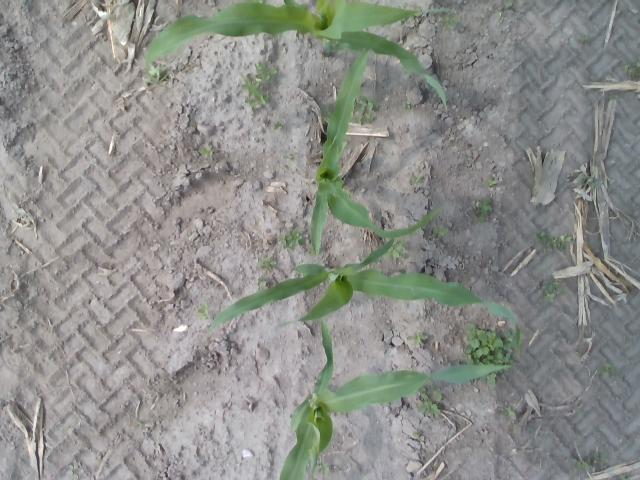Maize: (209, 240, 522, 360), (278, 322, 511, 480), (144, 0, 450, 113), (309, 37, 439, 258)
Weeds: (460, 322, 516, 387), (241, 61, 277, 114), (533, 230, 573, 253), (350, 94, 380, 123), (417, 384, 443, 416), (572, 453, 605, 472), (540, 278, 565, 303), (279, 229, 305, 250), (145, 65, 168, 86), (382, 239, 406, 258), (474, 198, 492, 222), (598, 362, 622, 380), (623, 60, 640, 80), (407, 330, 428, 346), (442, 12, 459, 31), (396, 12, 422, 24), (497, 1, 512, 21), (579, 174, 599, 189), (258, 256, 275, 272), (320, 104, 332, 122), (433, 223, 448, 237), (282, 150, 295, 166), (318, 460, 330, 476), (409, 174, 424, 186), (198, 302, 208, 320), (502, 406, 516, 418), (198, 146, 212, 157), (483, 179, 498, 187), (273, 120, 284, 130), (581, 34, 590, 44), (244, 0, 264, 4), (401, 100, 411, 108), (258, 276, 266, 285), (308, 246, 315, 255), (618, 474, 628, 480), (413, 432, 421, 438), (137, 421, 144, 427)
